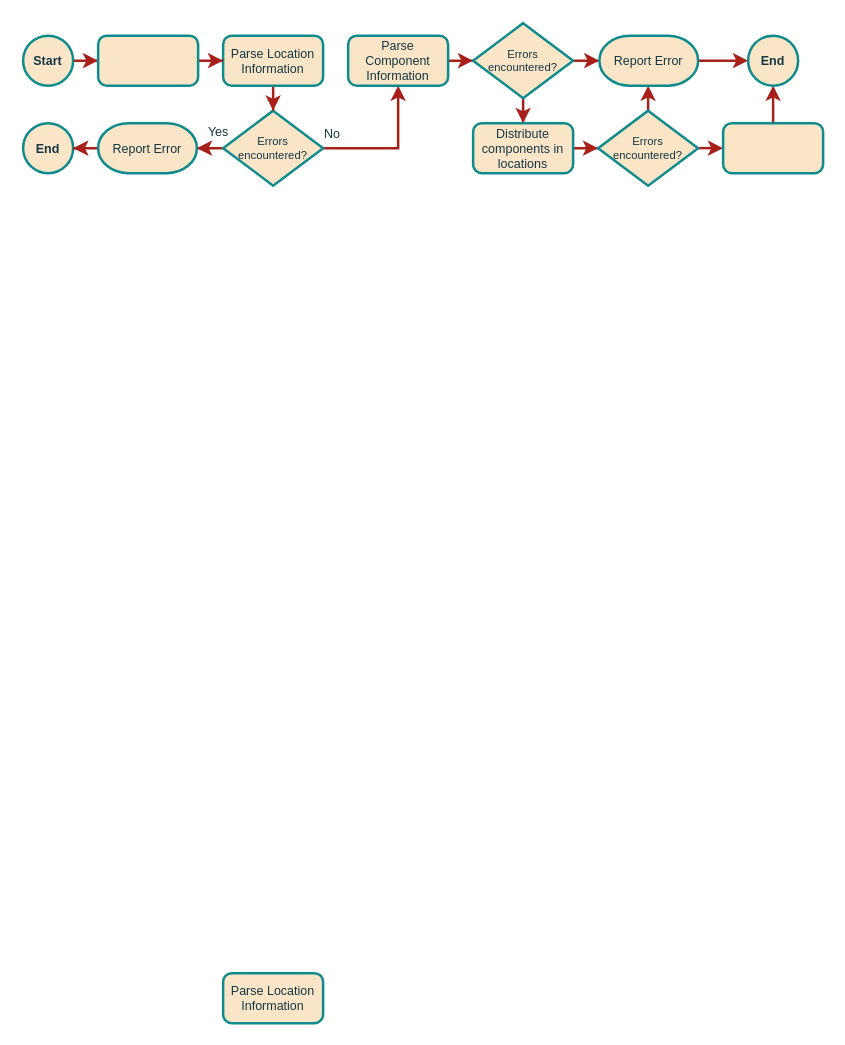
Image size: 845x1045. Some labels were removed from this diagram. The shapes that lost their labels are listed below. From the top down, each one's box as (x1, y1, x2, y2) in pixels, then its label:
(96, 34, 199, 86): Load YAML file
(721, 121, 824, 174): Return data structure
